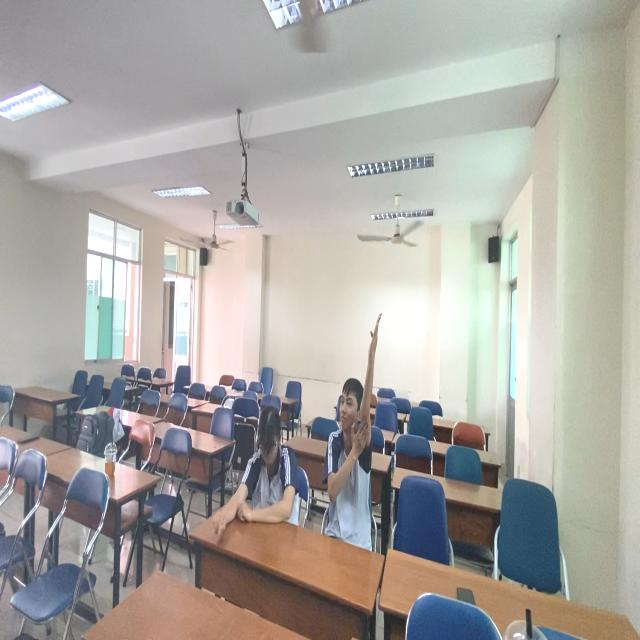raise_hand: (323, 309, 388, 550)
